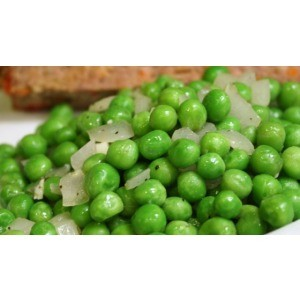green pea_brain food: (145, 134, 215, 214)
